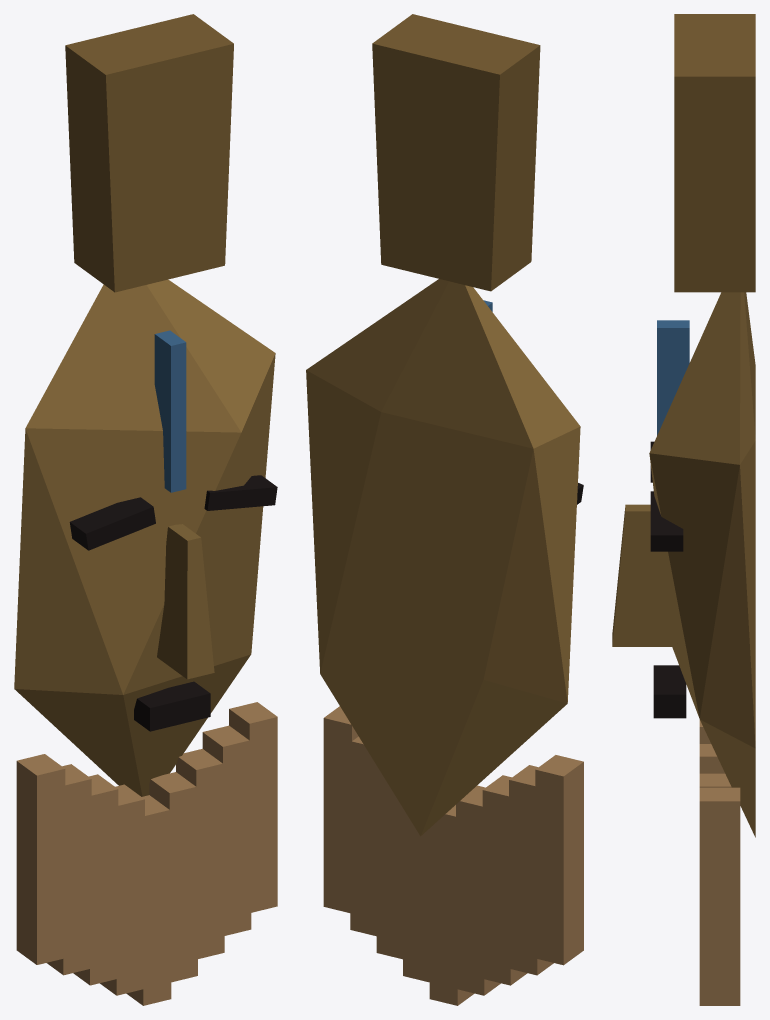
File: wall-mask-44.glb
3 renders of one model, left to right at view 1: azimuth 30°, elevation 25°; view 2: azimuth 150°, elevation 25°; view 3: azimuth 270°, elevation 25°, orthographic.
Parts seen in each view (by area): view 1: wall_mask_44; view 2: wall_mask_44; view 3: wall_mask_44.
Part boxes in pixels (x1,y1,x2,y2): wall_mask_44: (14, 14, 277, 1005); wall_mask_44: (306, 14, 583, 1005); wall_mask_44: (612, 14, 755, 1005).
Size of the model in its own units: 0.1861 by 0.6441 by 0.0877.
